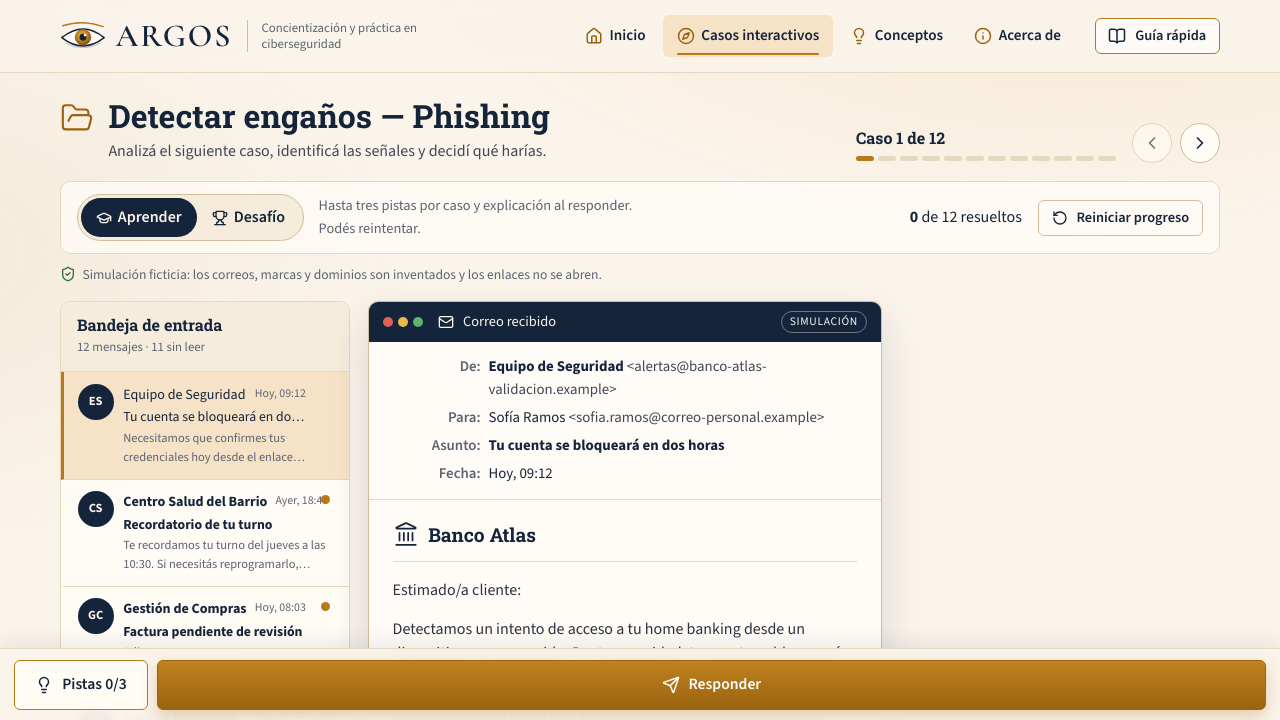
Test: simulador en móvil (panel inferior) › «Responder» abre un diálogo modal con las tres decisiones; Escape lo cierra
This screenshot has width=1280, height=720.
Expected: the heading "Detectar engaños — Phishing" is shown, [108,97,550,135]
Click the button "Responder" at x=711, y=685, box [157,660,1266,710]
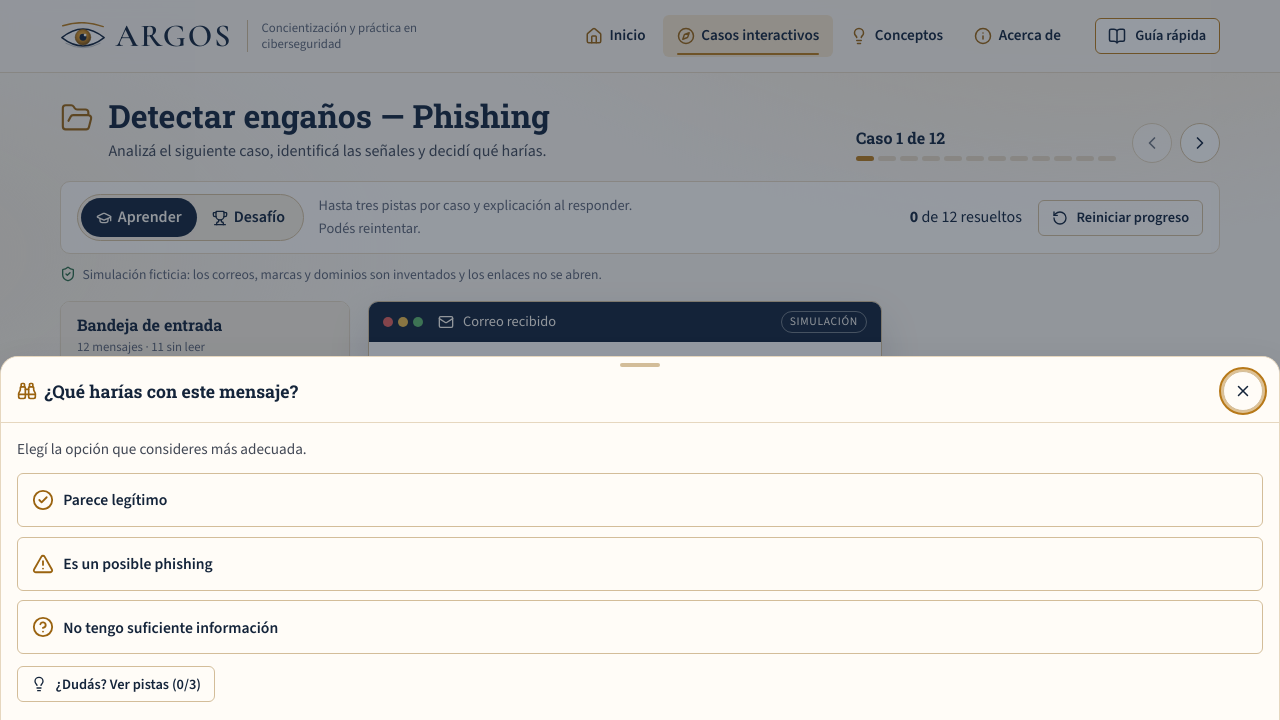
Result: the button "Parece legítimo" is shown at [17,473,1263,527]
Result: the button "Es un posible phishing" is shown at [17,537,1263,591]
Result: the button "No tengo suficiente información" is shown at [17,600,1263,654]
Press Escape
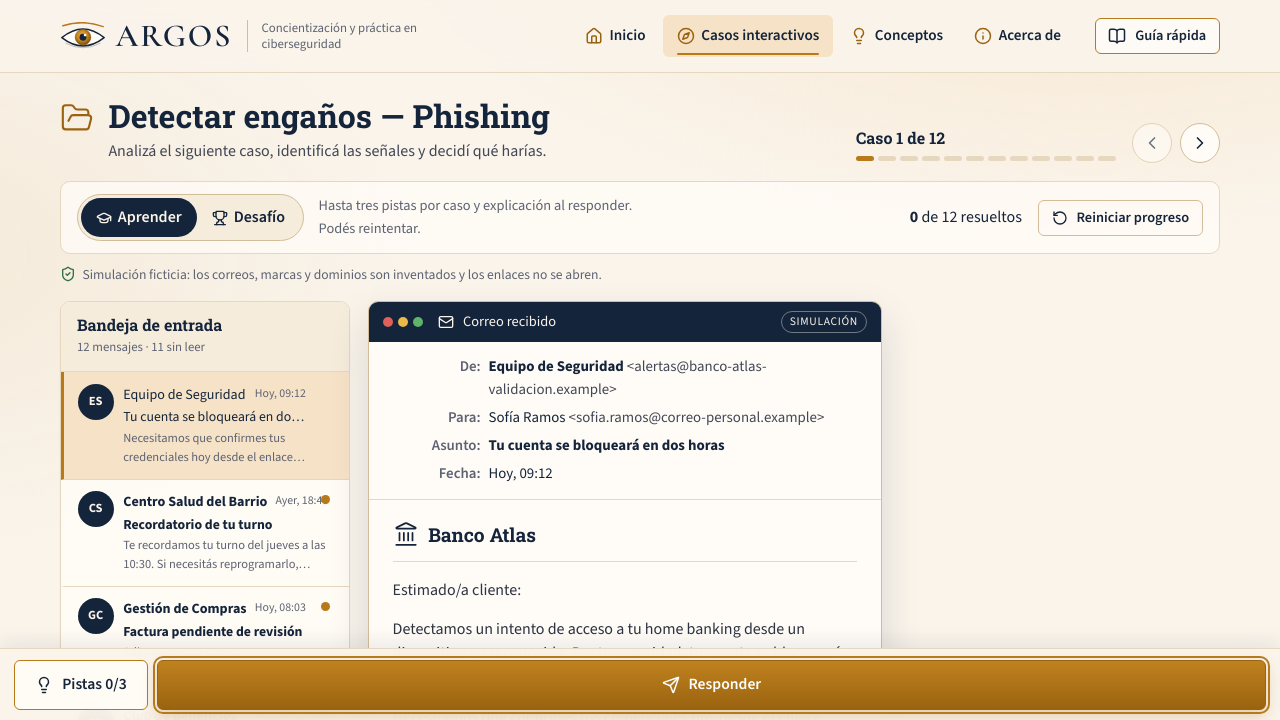
Result: the dialog is gone
